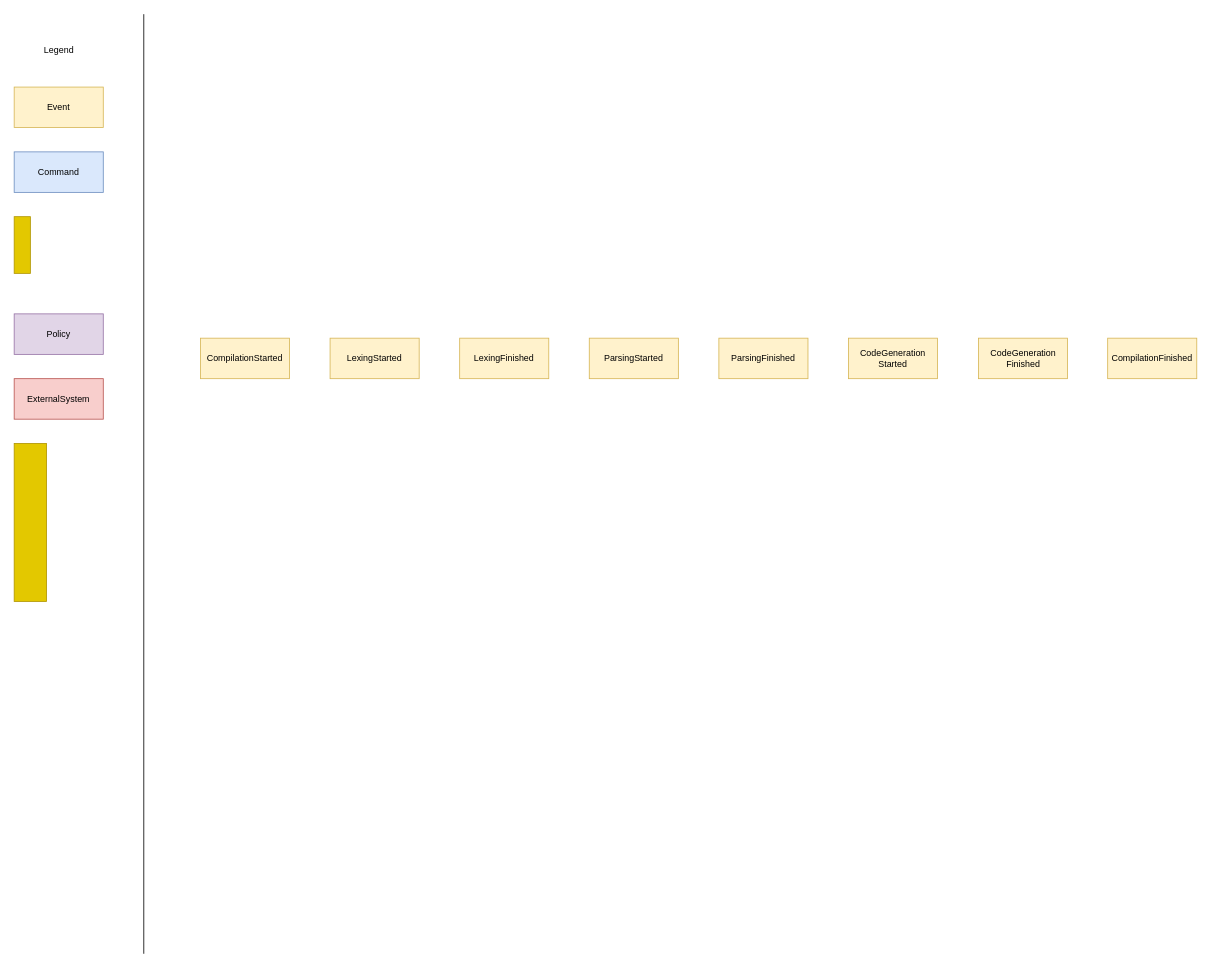
This 1211x969 diagram has some shape labels left out. The box of each missing label's shape, as (x1, y1, x2, y2) in pixels:
Actor: (13, 216, 30, 273)
Aggregate: (13, 443, 47, 601)
